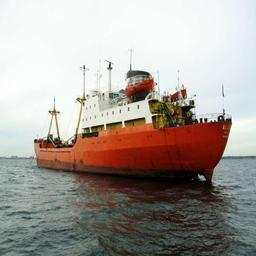Ship: (31, 57, 233, 190)
